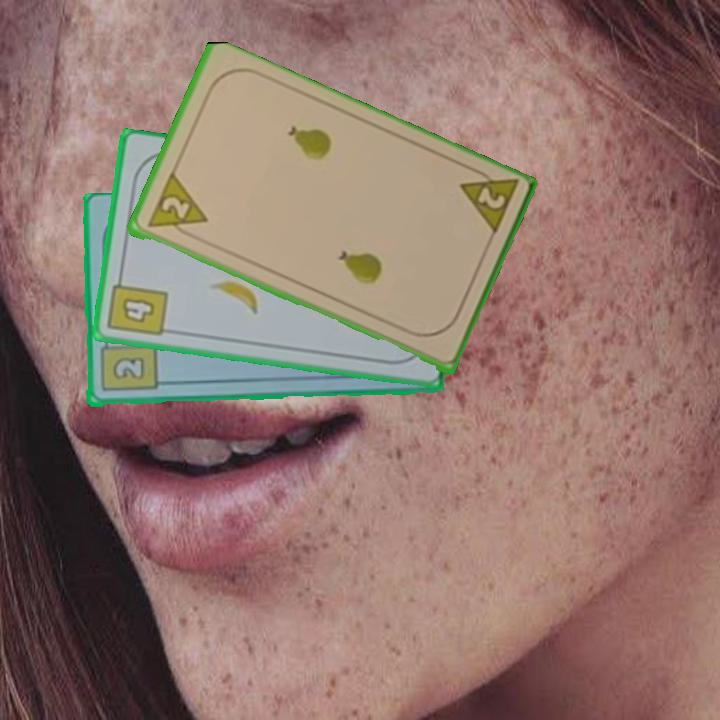2b: (96, 334, 159, 395)
2p: (455, 162, 520, 241), (143, 171, 210, 242)
4b: (104, 270, 171, 340)
